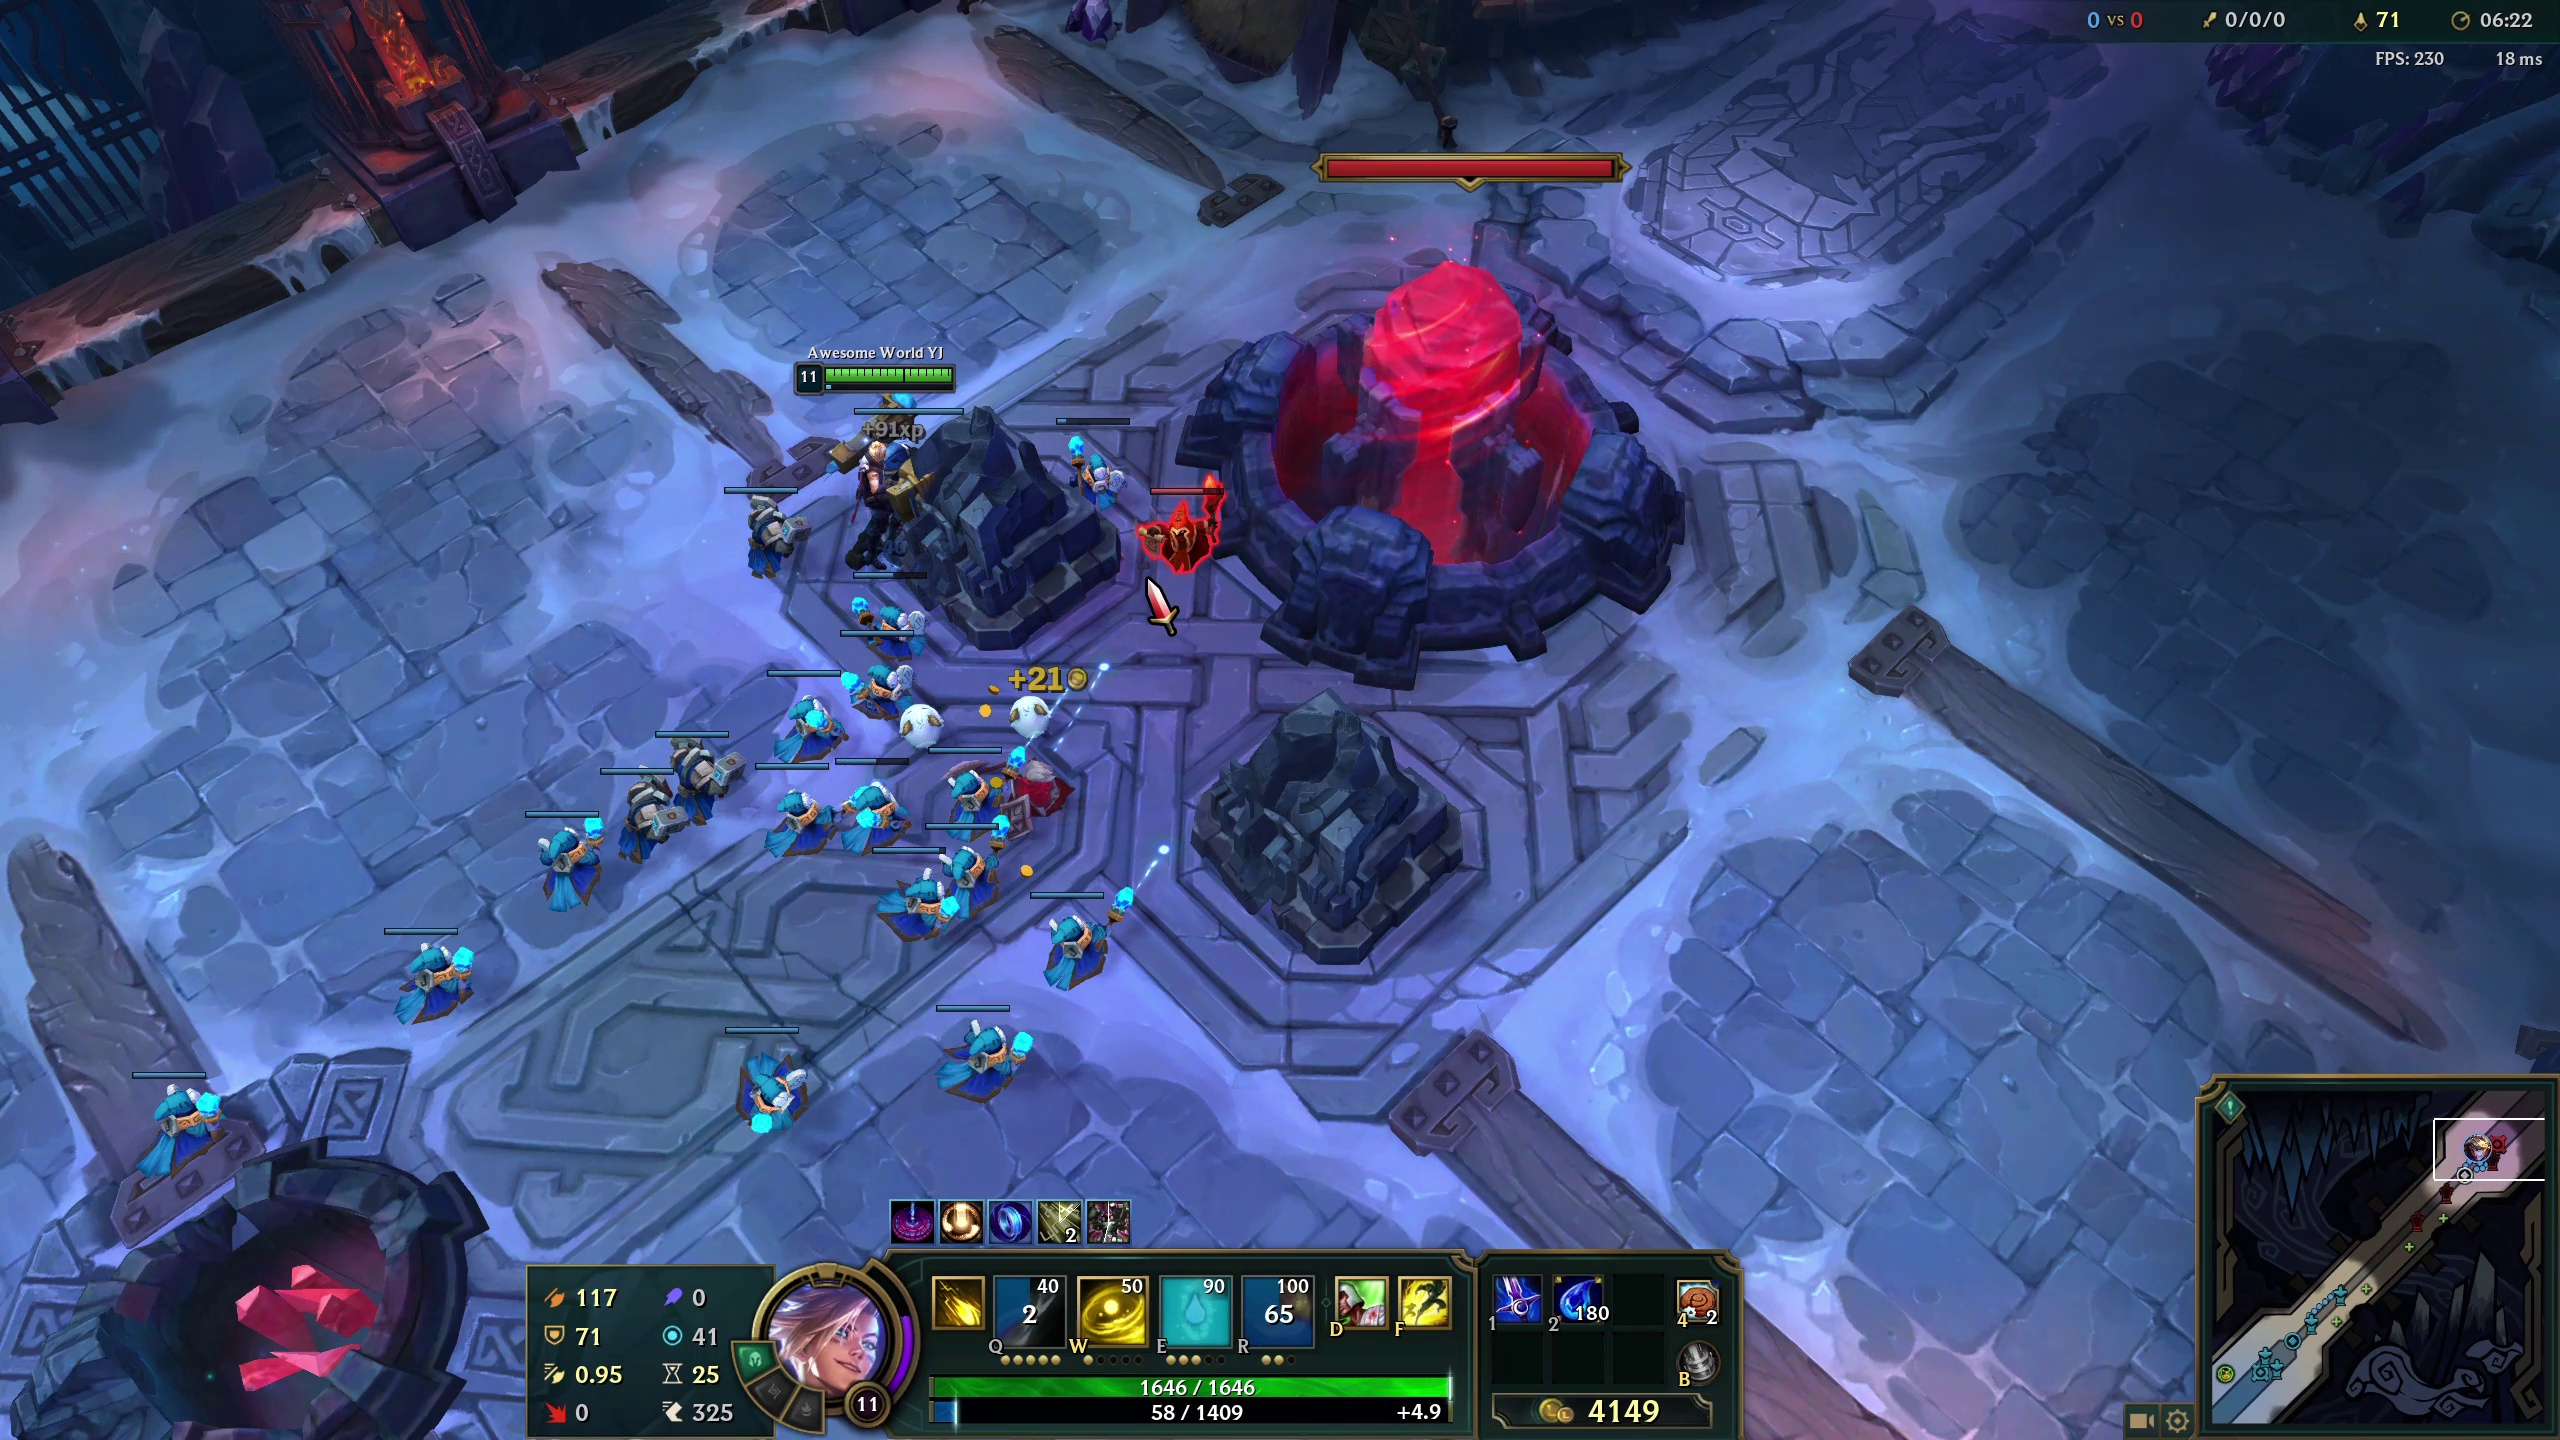EZ: (856, 445, 904, 571)
EnemyMinion: (1124, 480, 1238, 584)
Inhibitor: (1257, 318, 1614, 614)
MyMinion: (835, 628, 925, 733), (1050, 413, 1138, 520), (721, 478, 809, 585), (128, 1067, 216, 1175), (383, 916, 471, 1023), (724, 1023, 812, 1131), (1027, 869, 1115, 976), (927, 823, 1015, 930), (932, 745, 1020, 853), (515, 802, 603, 909), (593, 761, 680, 869), (651, 710, 738, 818), (744, 658, 832, 765), (830, 735, 918, 842), (828, 733, 916, 840), (944, 992, 1032, 1097), (856, 839, 944, 944)
